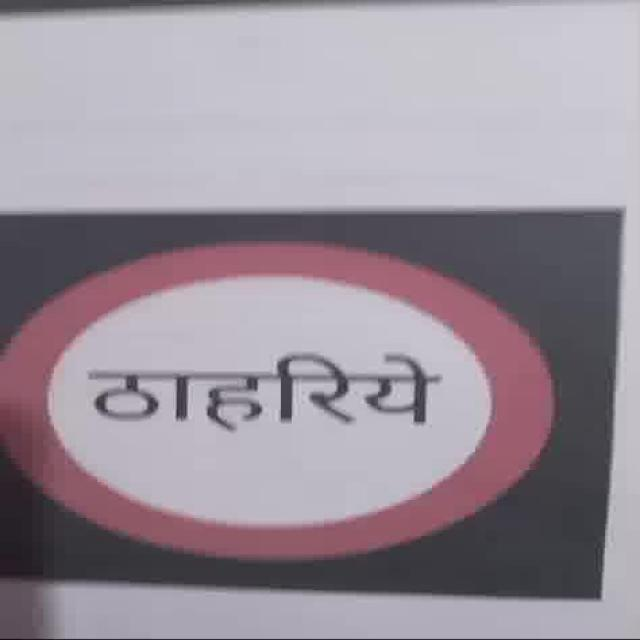hindistop: (1, 2, 636, 629), (2, 238, 560, 563), (84, 350, 444, 431)
